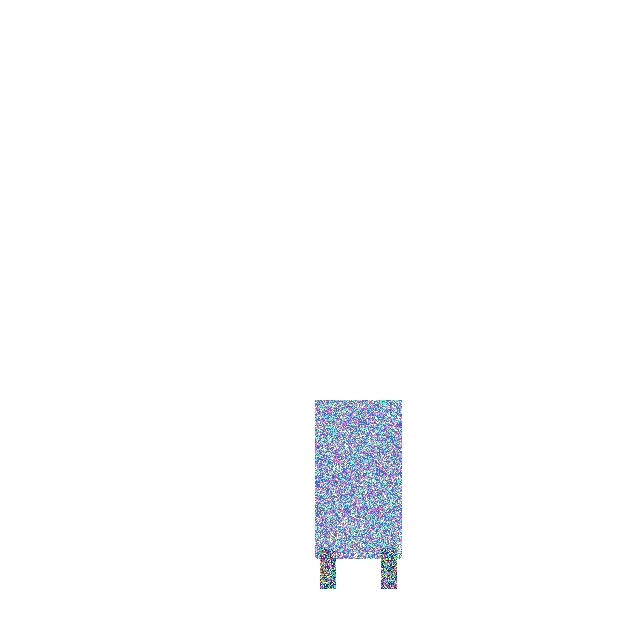Table: (315, 400, 401, 558)
